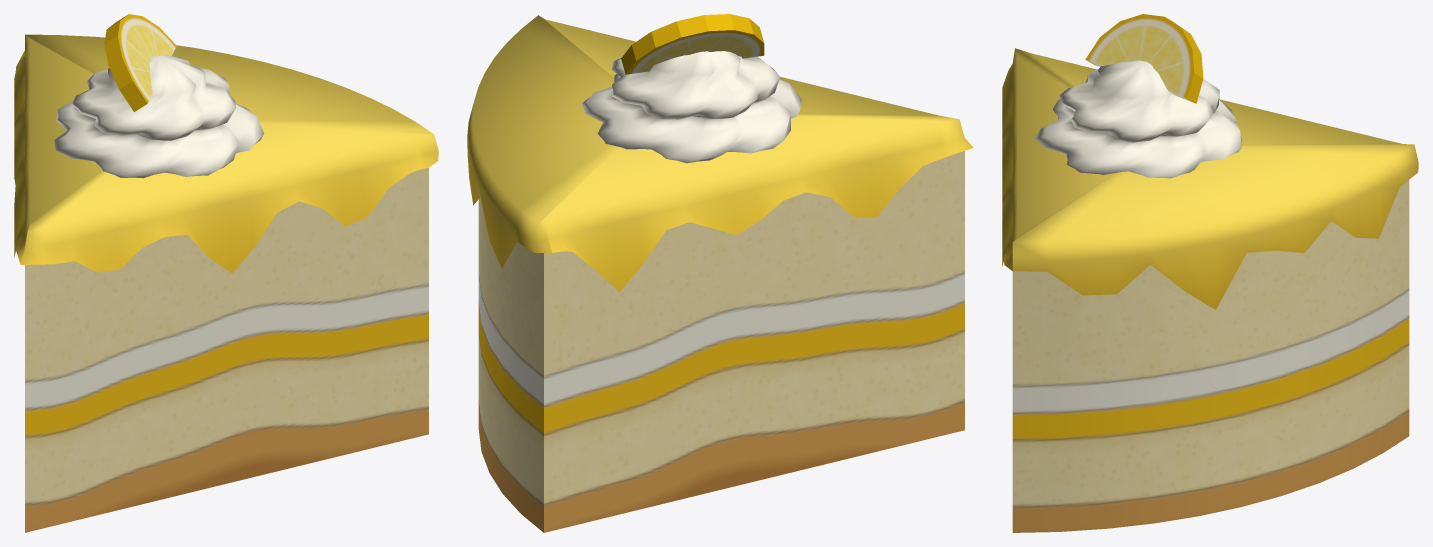
File: lemon_slice.glb
The picture shows the model from 3 angles, left to right: view 1: azimuth 30°, elevation 25°; view 2: azimuth 150°, elevation 25°; view 3: azimuth 270°, elevation 25°; orthographic projection. The views are drawn at different scales.
Visible parts, largest first — view 1: LemonSlice; view 2: LemonSlice; view 3: LemonSlice.
Part boxes in pixels (x1,y1,x2,y2): LemonSlice: (14,14,438,532); LemonSlice: (467,14,973,532); LemonSlice: (1002,14,1418,532).
Size of the model in its own units: 1.04 by 0.9769 by 0.9096.
1 material, 1 textured.
